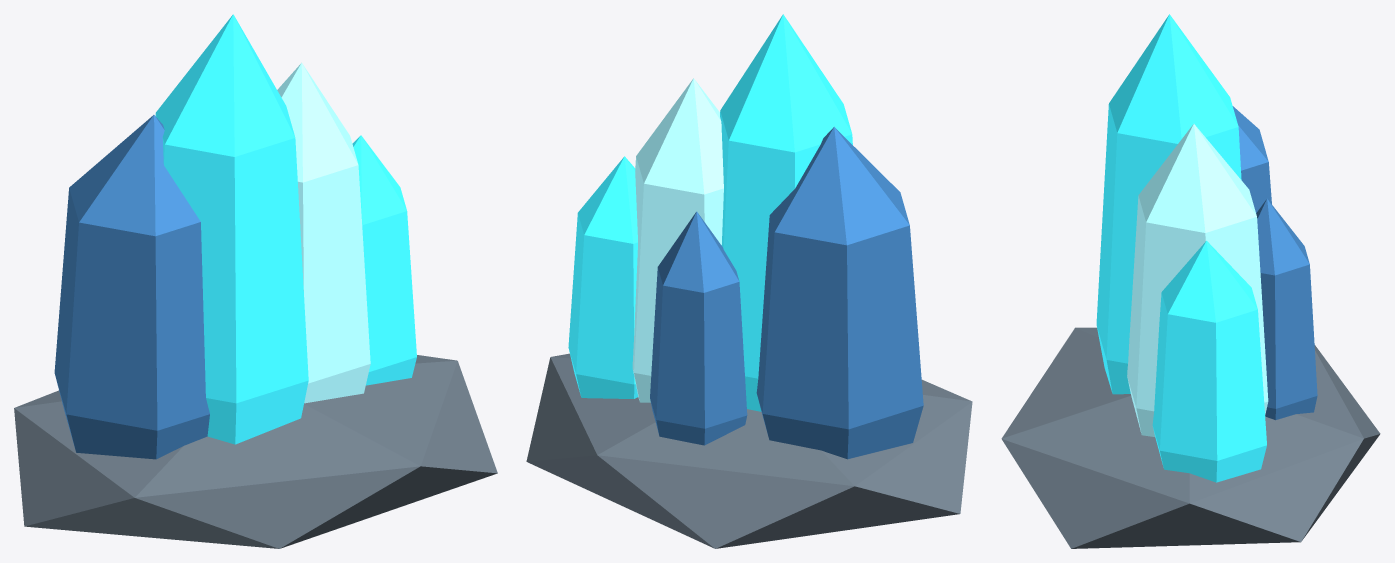
File: Crystal_Full.fbx
3 views of the same model, side by side, from view 1: azimuth 30°, elevation 25°; view 2: azimuth 150°, elevation 25°; view 3: azimuth 270°, elevation 25° (orthographic). The views are drawn at different scales.
Visible parts, largest first — view 1: Dark mineral base, Faceted crystal shard 01, Faceted crystal shard 00, Faceted crystal shard 02, Faceted crystal shard 03; view 2: Dark mineral base, Faceted crystal shard 00, Faceted crystal shard 01, Faceted crystal shard 04, Faceted crystal shard 02, Faceted crystal shard 03; view 3: Dark mineral base, Faceted crystal shard 03, Faceted crystal shard 01, Faceted crystal shard 02, Faceted crystal shard 04, Faceted crystal shard 00.
Boxes of the visible parts, <box> form: Dark mineral base: <box>14,355,497,548</box>; Faceted crystal shard 01: <box>155,14,308,444</box>; Faceted crystal shard 00: <box>54,115,209,459</box>; Faceted crystal shard 02: <box>277,62,370,403</box>; Faceted crystal shard 03: <box>352,135,416,385</box>; Dark mineral base: <box>526,353,972,548</box>; Faceted crystal shard 00: <box>756,127,923,459</box>; Faceted crystal shard 01: <box>720,14,852,411</box>; Faceted crystal shard 04: <box>650,211,747,445</box>; Faceted crystal shard 02: <box>632,78,723,402</box>; Faceted crystal shard 03: <box>568,156,638,398</box>; Dark mineral base: <box>1001,327,1380,548</box>; Faceted crystal shard 03: <box>1152,240,1266,482</box>; Faceted crystal shard 01: <box>1096,14,1241,394</box>; Faceted crystal shard 02: <box>1127,124,1268,436</box>; Faceted crystal shard 04: <box>1256,198,1317,420</box>; Faceted crystal shard 00: <box>1232,106,1271,212</box>.
Size of the model in its own units: 581 by 647 by 474.
